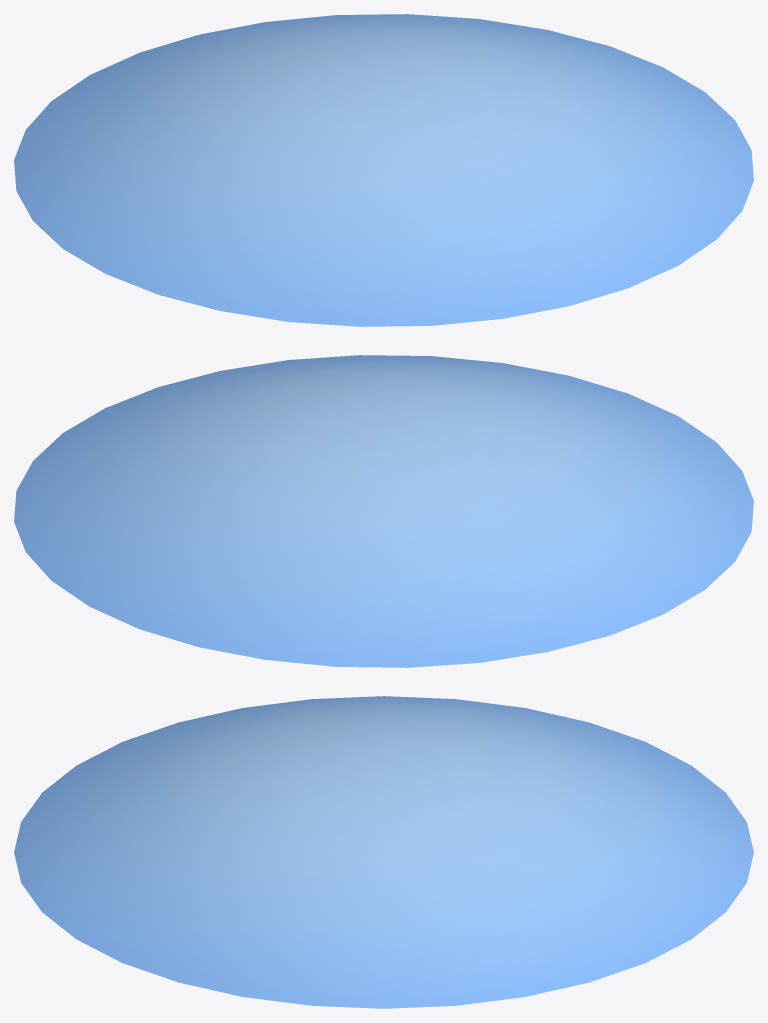
File: ground_006.glb
3 renders of one model, top to bottom at view 1: azimuth 30°, elevation 25°; view 2: azimuth 150°, elevation 25°; view 3: azimuth 270°, elevation 25°, orthographic.
Parts seen in each view (by area): view 1: ground_006; view 2: ground_006; view 3: ground_006.
Boxes of the visible parts, x1,y1,x2,y2 form: ground_006: [14, 14, 753, 326]; ground_006: [14, 355, 753, 667]; ground_006: [14, 696, 753, 1008].
Bounding box in the file's own units: 24.15 × 2.8 × 24.15.
Materials: 1 (1 with a texture image).
